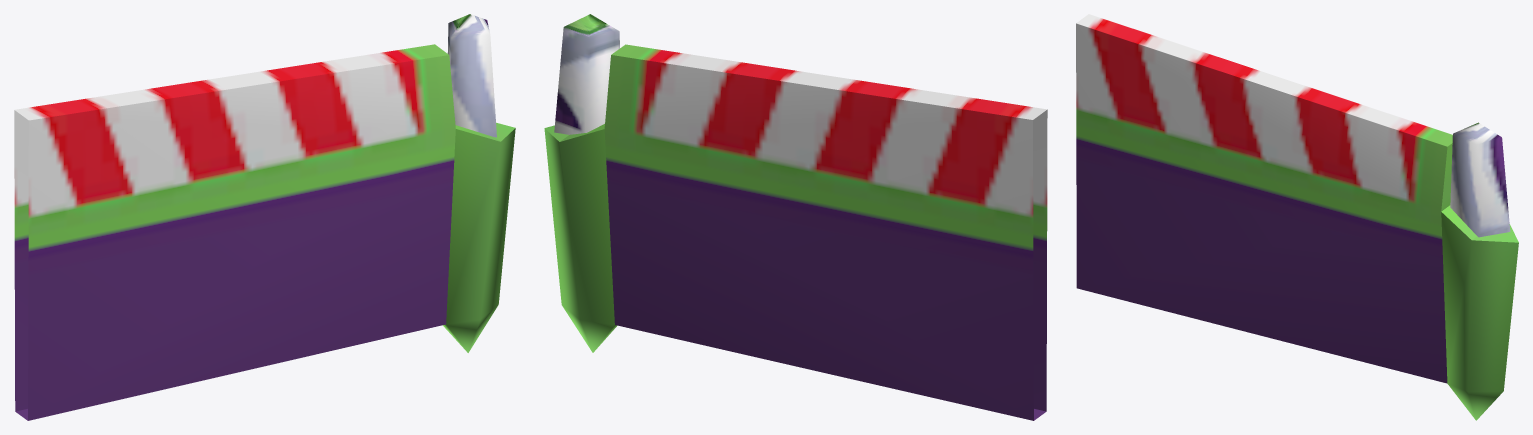
The model's file is buzzlightyLeftWing2.obj.
3 views of the same model, side by side, from view 1: azimuth 30°, elevation 25°; view 2: azimuth 150°, elevation 25°; view 3: azimuth 330°, elevation 25° (orthographic). The views are drawn at different scales.
Parts seen in each view (by area): view 1: buzzlightyLeftWing2_buzzlighty.014; view 2: buzzlightyLeftWing2_buzzlighty.014; view 3: buzzlightyLeftWing2_buzzlighty.014.
Part boxes in pixels (<box>): buzzlightyLeftWing2_buzzlighty.014: <box>14,14,515,420</box>; buzzlightyLeftWing2_buzzlighty.014: <box>544,14,1047,420</box>; buzzlightyLeftWing2_buzzlighty.014: <box>1076,14,1518,420</box>.
Size of the model in its own units: 0.25 by 0.1677 by 0.0338.
Materials: 1 (1 with a texture image).
